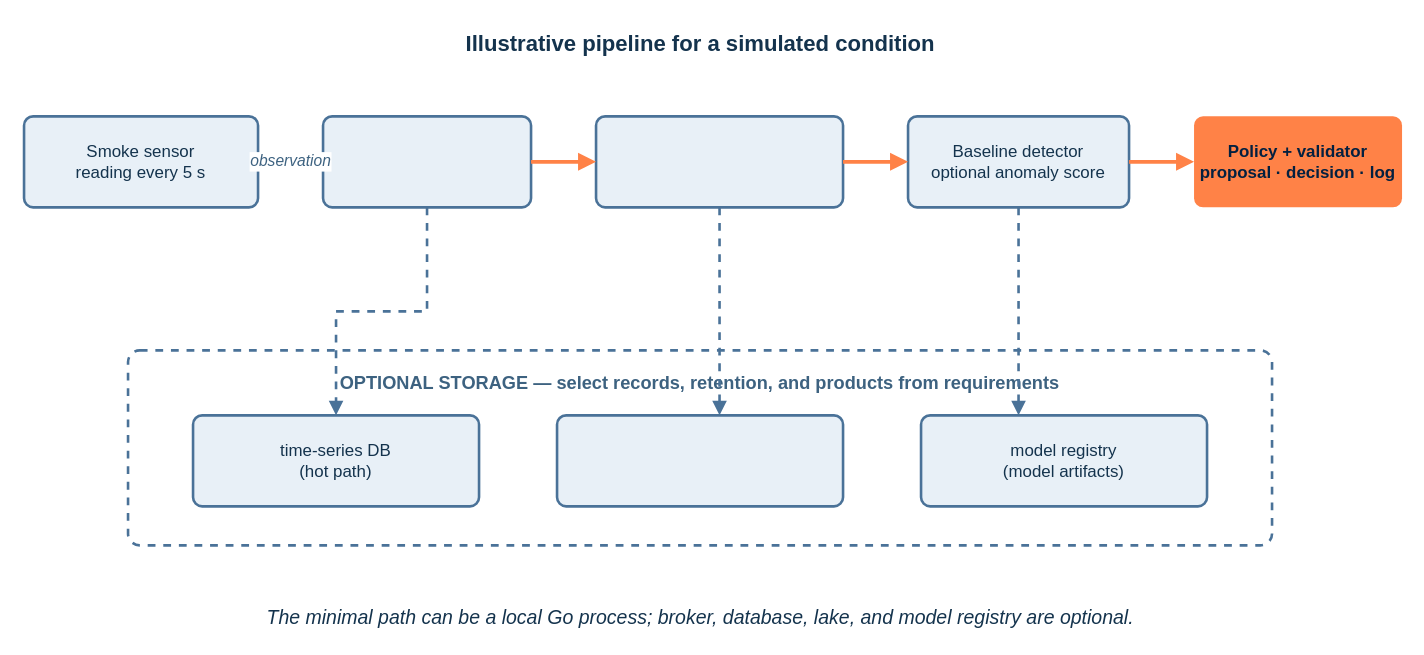
This 1424x655 diagram has some shape labels left out. Here are the shapes that lost their labels. From the top down, the centre of each, then its label:
At (x=426, y=161): "Ingestion direct API or broker".
At (x=719, y=161): "Stream processor 5-min sliding window".
At (x=699, y=460): "data lake (Parquet, cold path)".
